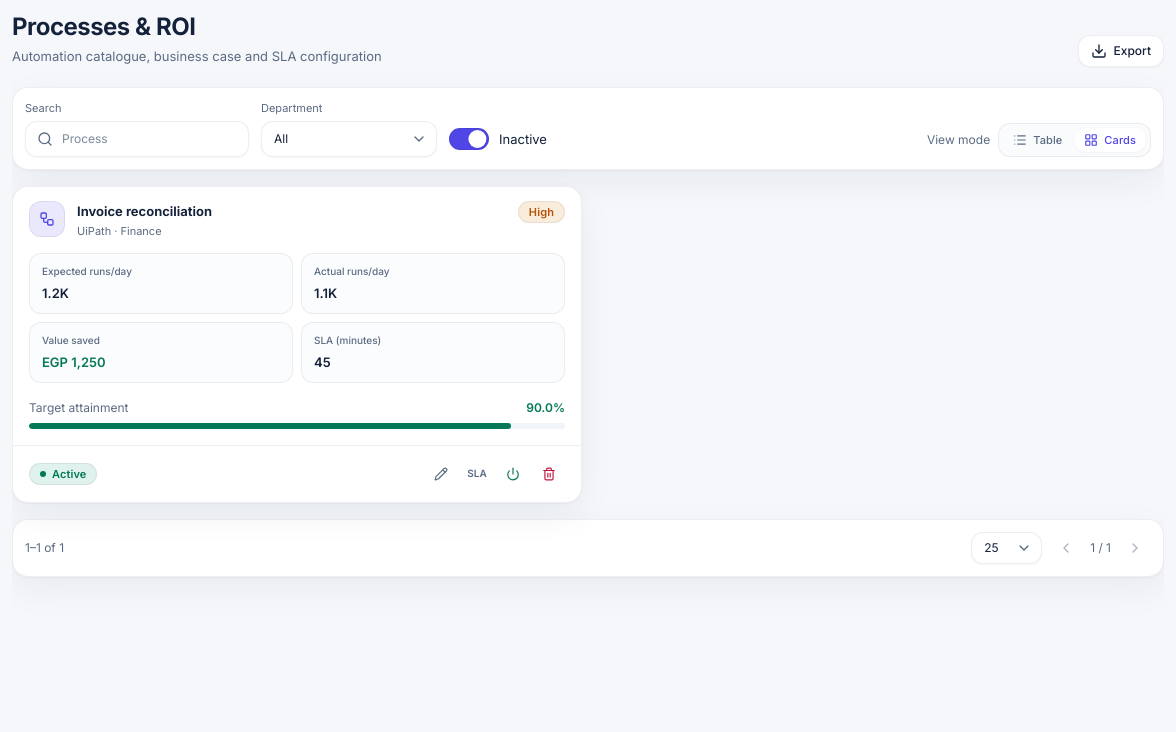
Scenario: Processes page presentation modes › renders the card view and switches back to the sortable table
Check: the heading "Invoice reconciliation" is shown, box top-left (77, 201), bottom-right (212, 221)
Check: the progress indicator named "Target attainment" is shown, box top-left (29, 423), bottom-right (565, 429)
Click the radio button labelled "Table": (1038, 140) top-left (1003, 128), bottom-right (1072, 152)
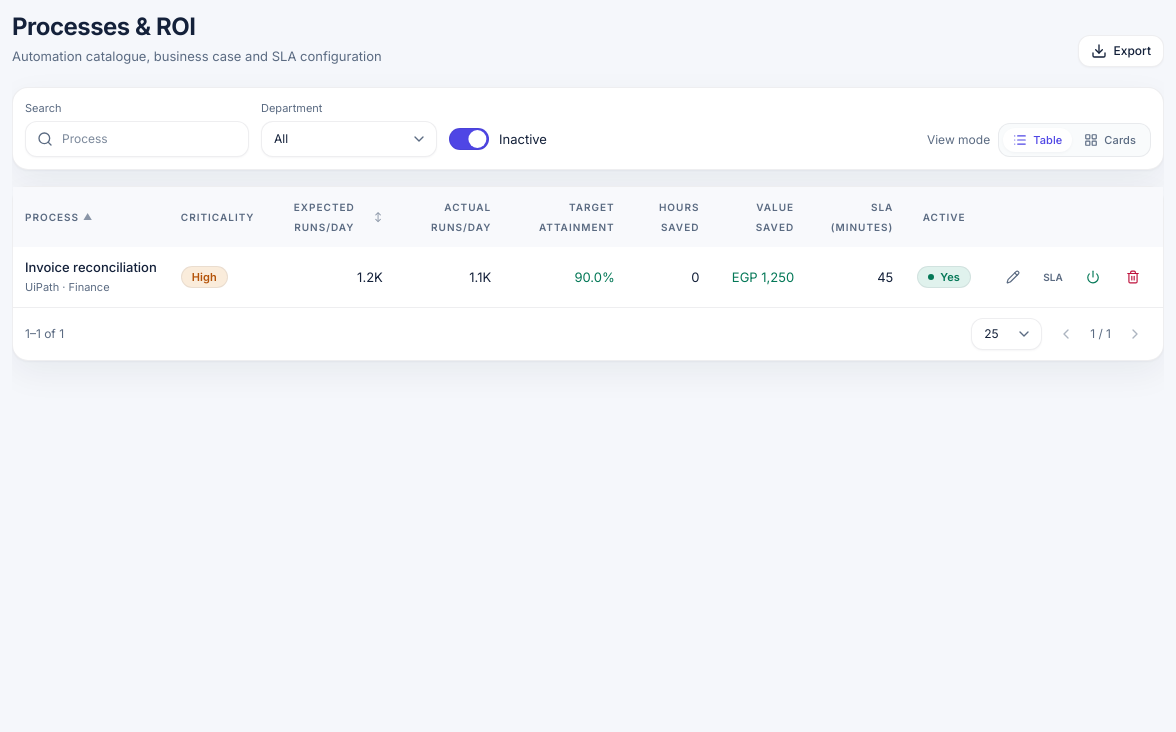
Check: the radio button "Cards" is shown, box top-left (1074, 128), bottom-right (1146, 152)
Check: the table is shown, box top-left (13, 187), bottom-right (1163, 307)
